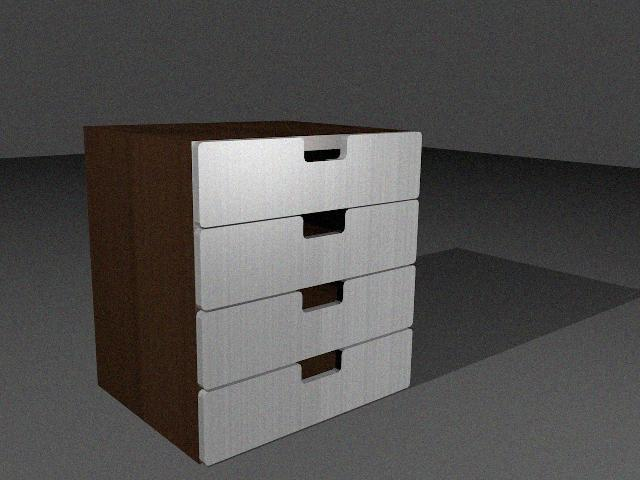cabinet_door: (200, 138, 420, 213), (202, 213, 418, 287), (203, 287, 414, 359), (206, 359, 412, 427)
handle: (297, 213, 349, 238), (301, 283, 343, 308), (300, 352, 341, 376), (299, 144, 345, 164)
